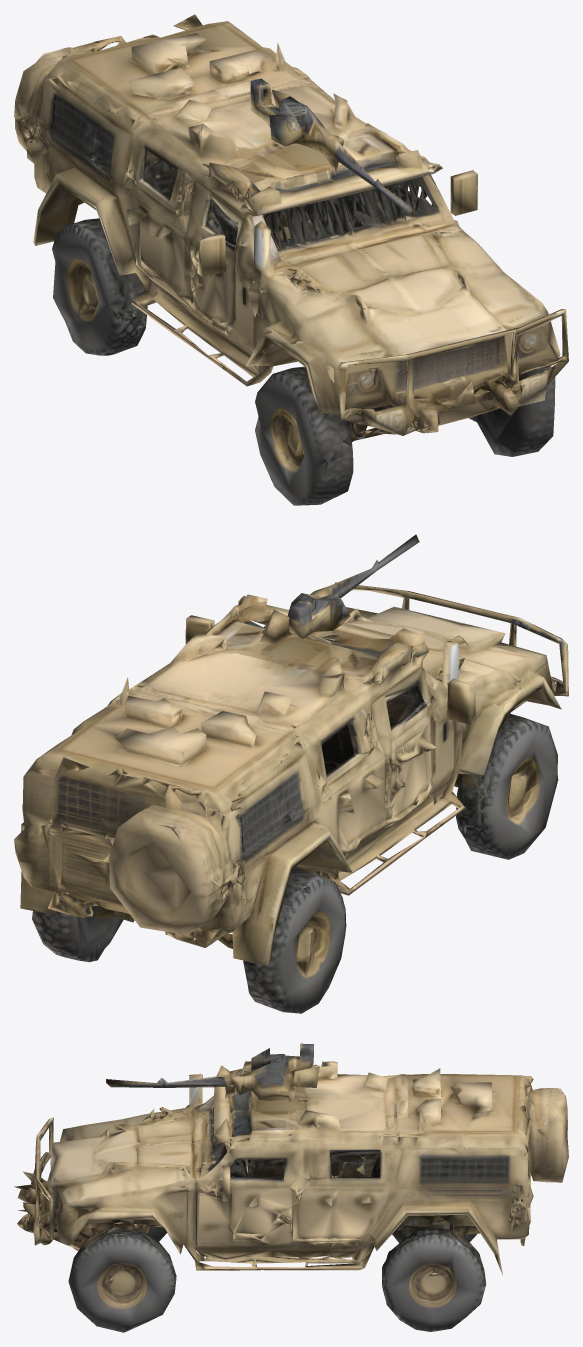
Rendered from Armored_Guardian_0412092717_texture.glb.
3 views of the same model, one above another, from view 1: azimuth 30°, elevation 25°; view 2: azimuth 150°, elevation 25°; view 3: azimuth 270°, elevation 25° (orthographic). The views are drawn at different scales.
Bounding box in the file's own units: 0.8761 × 0.9492 × 2.01.
1 material, 1 textured.
